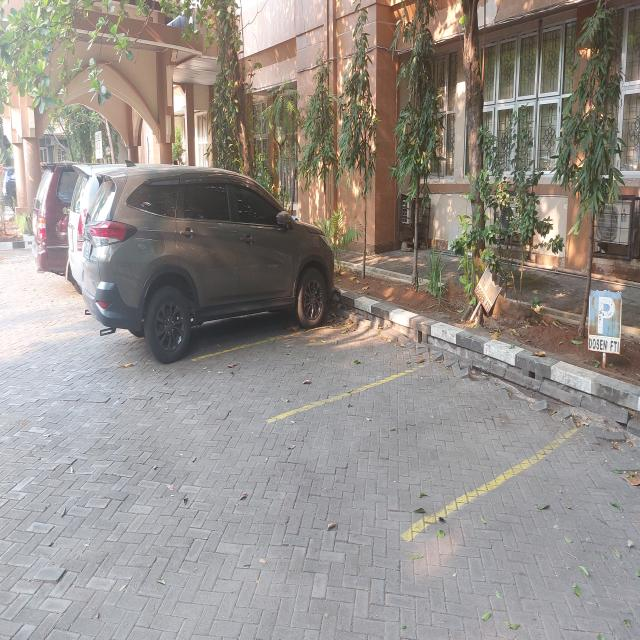empty: (270, 354, 586, 532), (410, 422, 640, 639), (191, 317, 446, 420)
occupied: (80, 173, 349, 377)
